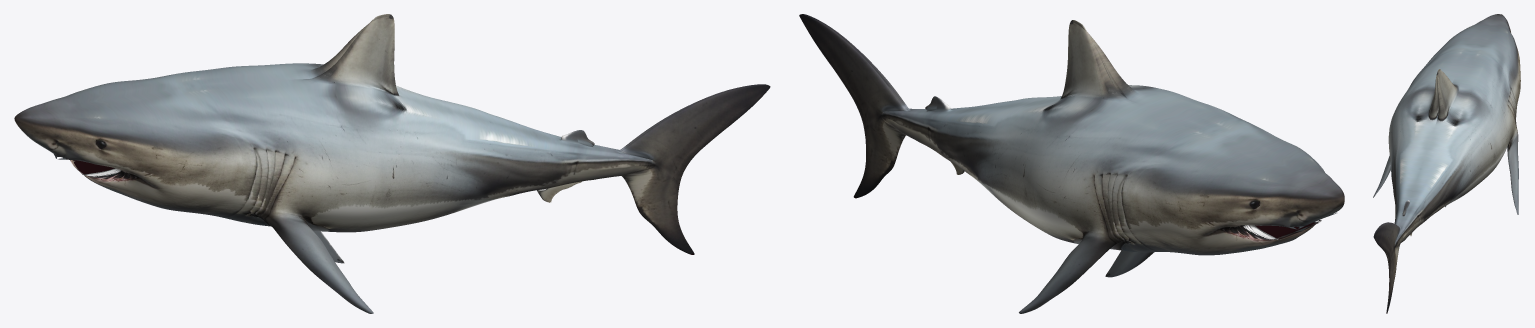
File: shark.fbx
3 views of the same model, side by side, from view 1: azimuth 30°, elevation 25°; view 2: azimuth 150°, elevation 25°; view 3: azimuth 270°, elevation 25° (orthographic). The views are drawn at different scales.
Parts seen in each view (by area): view 1: Cube.009; view 2: Cube.009; view 3: Cube.009.
Boxes of the visible parts, x1,y1,x2,y2 form: Cube.009: [14, 14, 770, 313]; Cube.009: [799, 14, 1344, 313]; Cube.009: [1373, 14, 1520, 313].
Bounding box in the file's own units: 459 × 185 × 149.
2 materials, 1 textured.
